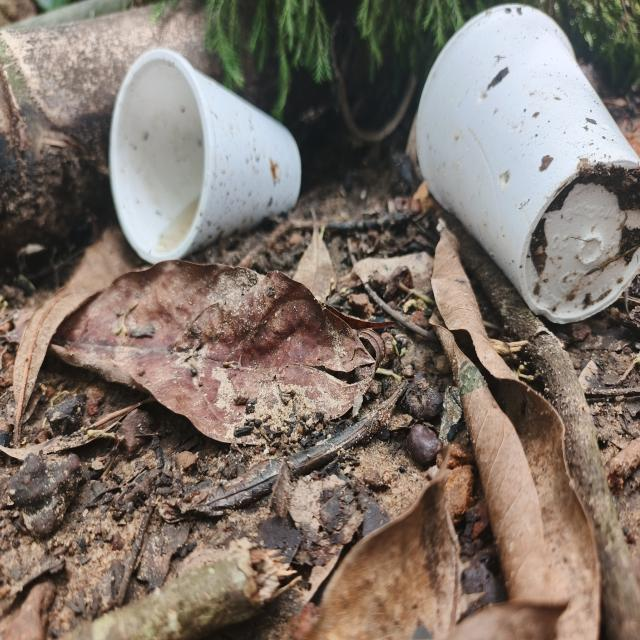plastic: (409, 0, 640, 330), (106, 38, 315, 273)
